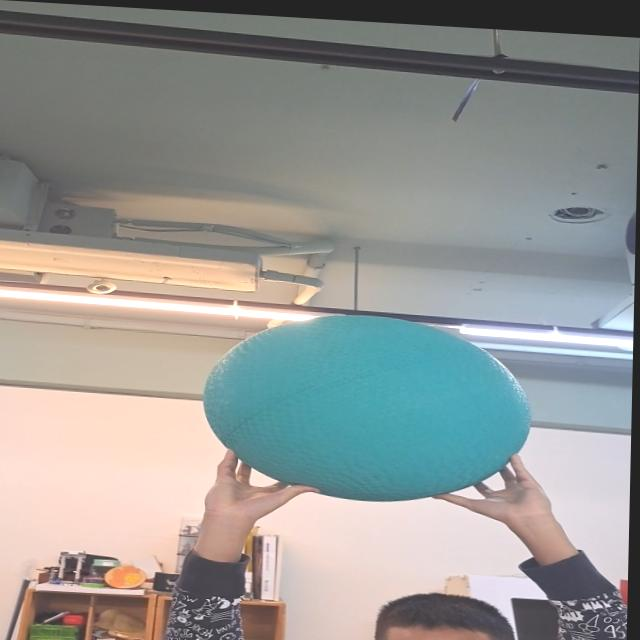ALGAE: (202, 307, 532, 512)
